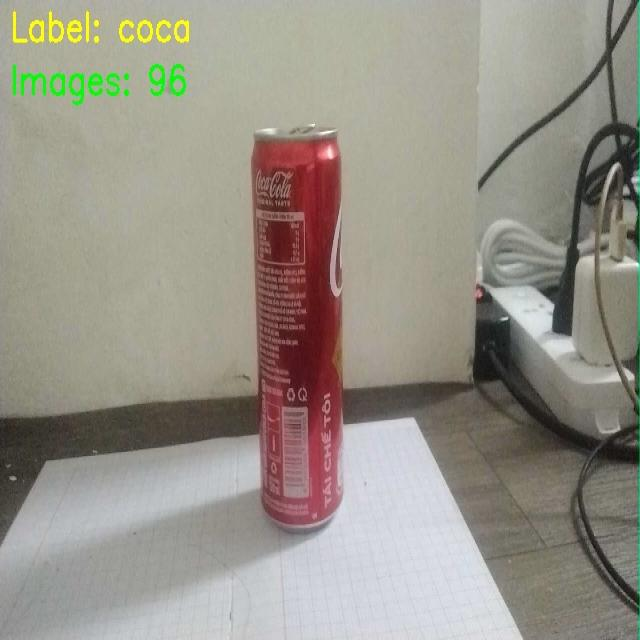Coca: (217, 94, 402, 540)
